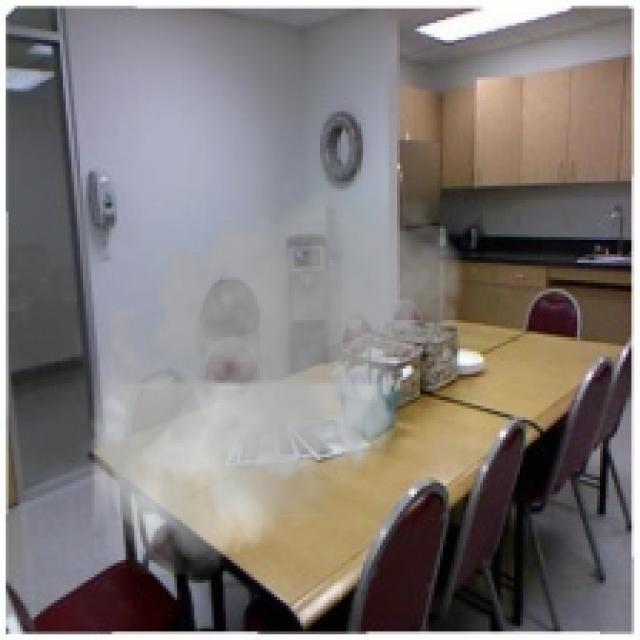smoke: (77, 169, 472, 574)
